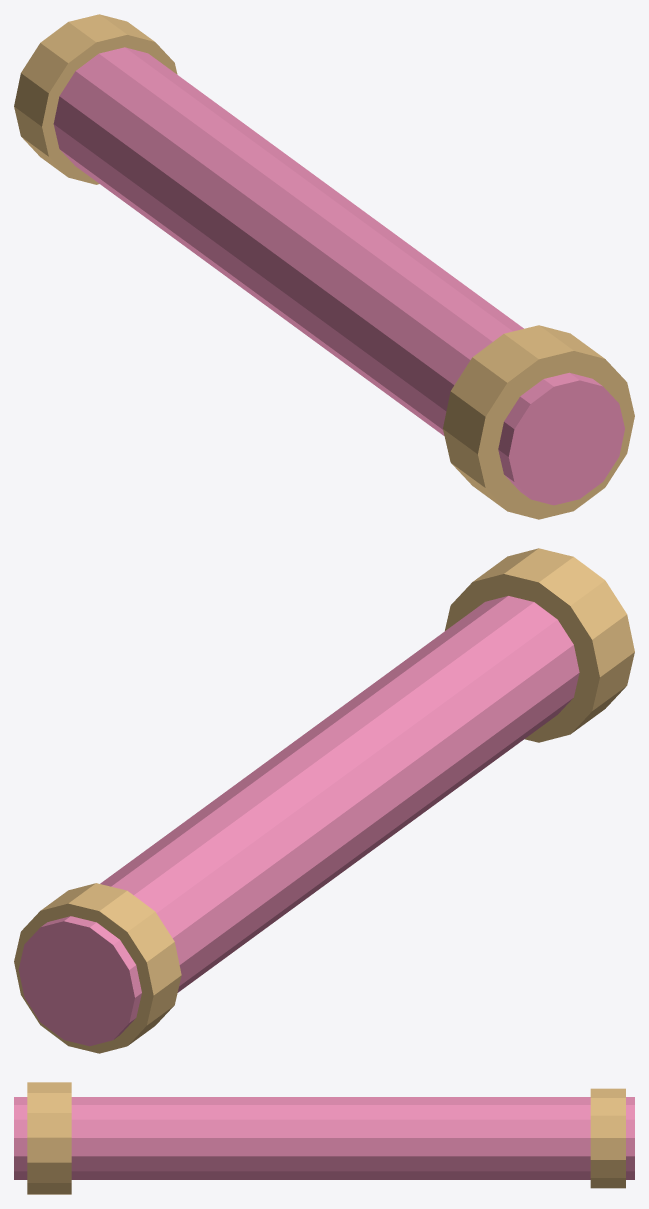
Rendered from LightBarrel.obj.
3 renders of one model, top to bottom at view 1: azimuth 30°, elevation 25°; view 2: azimuth 150°, elevation 25°; view 3: azimuth 270°, elevation 25°, orthographic. The views are drawn at different scales.
Parts seen in each view (by area): view 1: LightBarrel_Body, LightBarrel_Detail; view 2: LightBarrel_Body, LightBarrel_Detail; view 3: LightBarrel_Body, LightBarrel_Detail.
Part boxes in pixels (x1,y1,x2,y2): LightBarrel_Body: (53,47,624,505); LightBarrel_Detail: (14,14,634,519); LightBarrel_Body: (18,596,579,1046); LightBarrel_Detail: (14,548,634,1053); LightBarrel_Body: (14,1097,634,1179); LightBarrel_Detail: (27,1082,625,1194).
Bounding box in the file's own units: 0.1296 × 0.1264 × 0.7.
